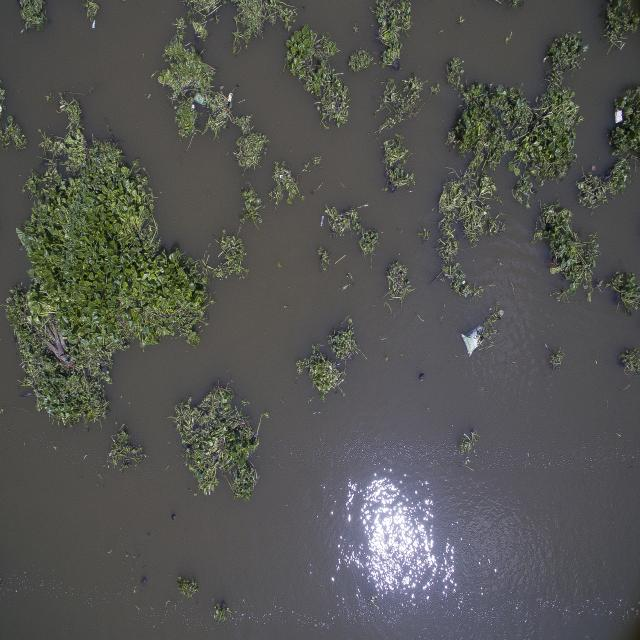plastic: (454, 320, 490, 359), (610, 96, 626, 130), (193, 87, 210, 112), (226, 90, 234, 104)
